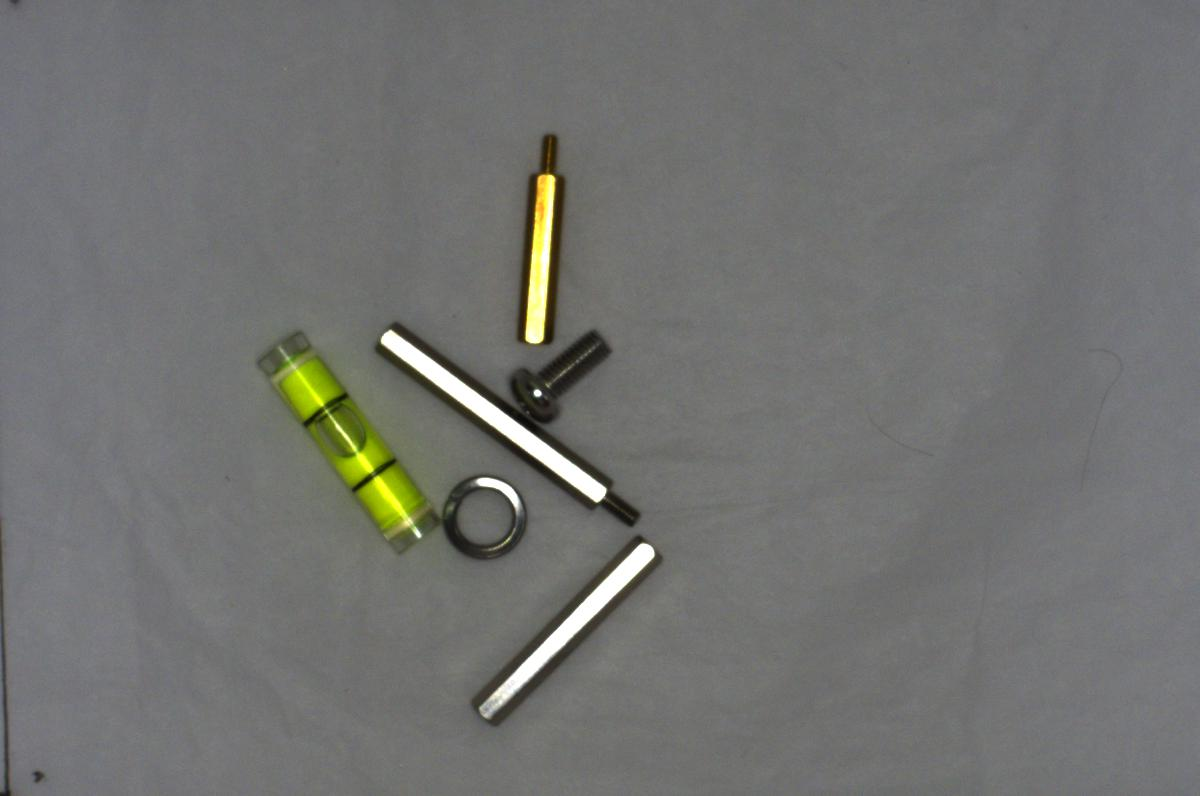Double hexagonal column: (461, 529, 667, 729)
Hexagon pillar: (513, 128, 562, 354)
Hexagonal steel column: (371, 316, 642, 526)
Horizontal bubble: (254, 330, 437, 553)
Round head screw: (502, 322, 621, 426)
Spring washer: (434, 470, 533, 566)
